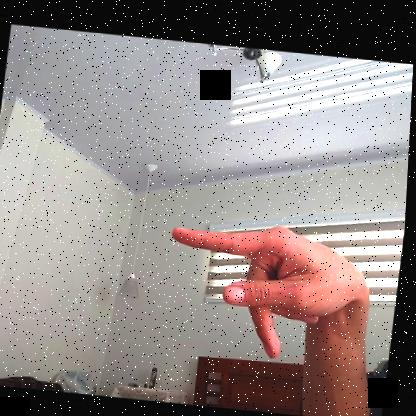P: (157, 214, 378, 368)
